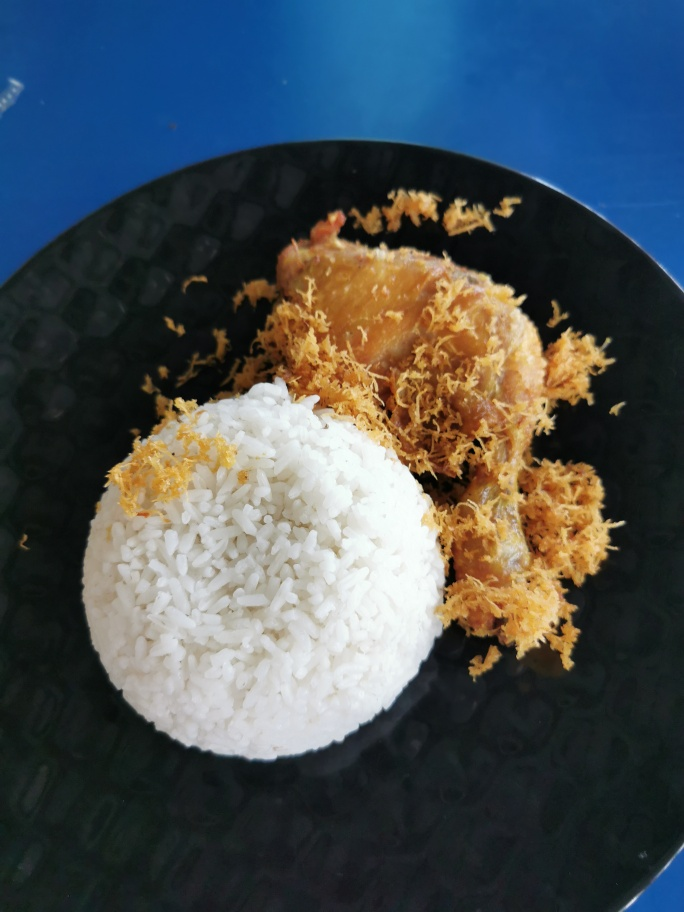ayam goreng: (253, 201, 611, 666)
nasi putih: (88, 372, 441, 744)
